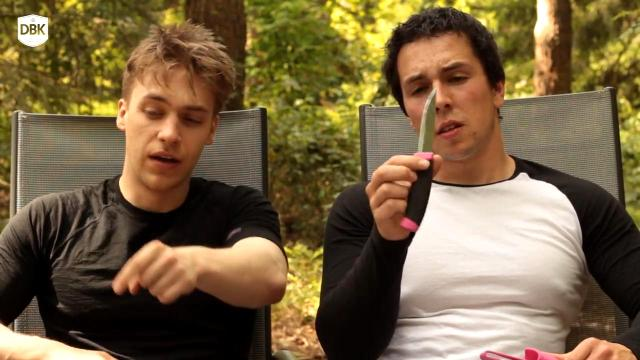pocket-knife: (380, 79, 442, 239)
